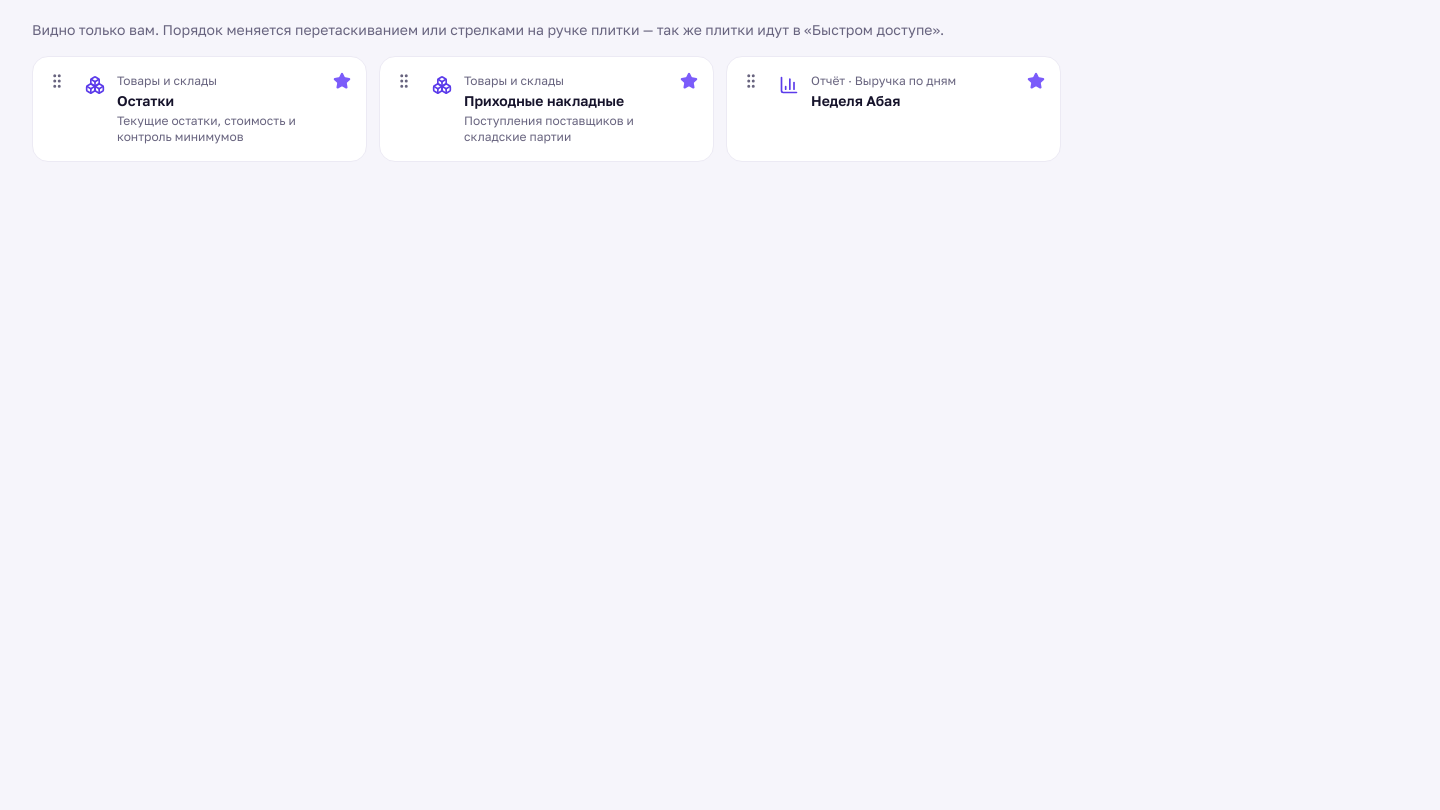
«Избранное» screen › unpins a tile
What coordinates should you click on to do the following:
click the button named "Убрать «Неделя Абая» из избранного"
I would click on:
 (1036, 81)
Its box is x1=1018 y1=63 x2=1054 y2=99.
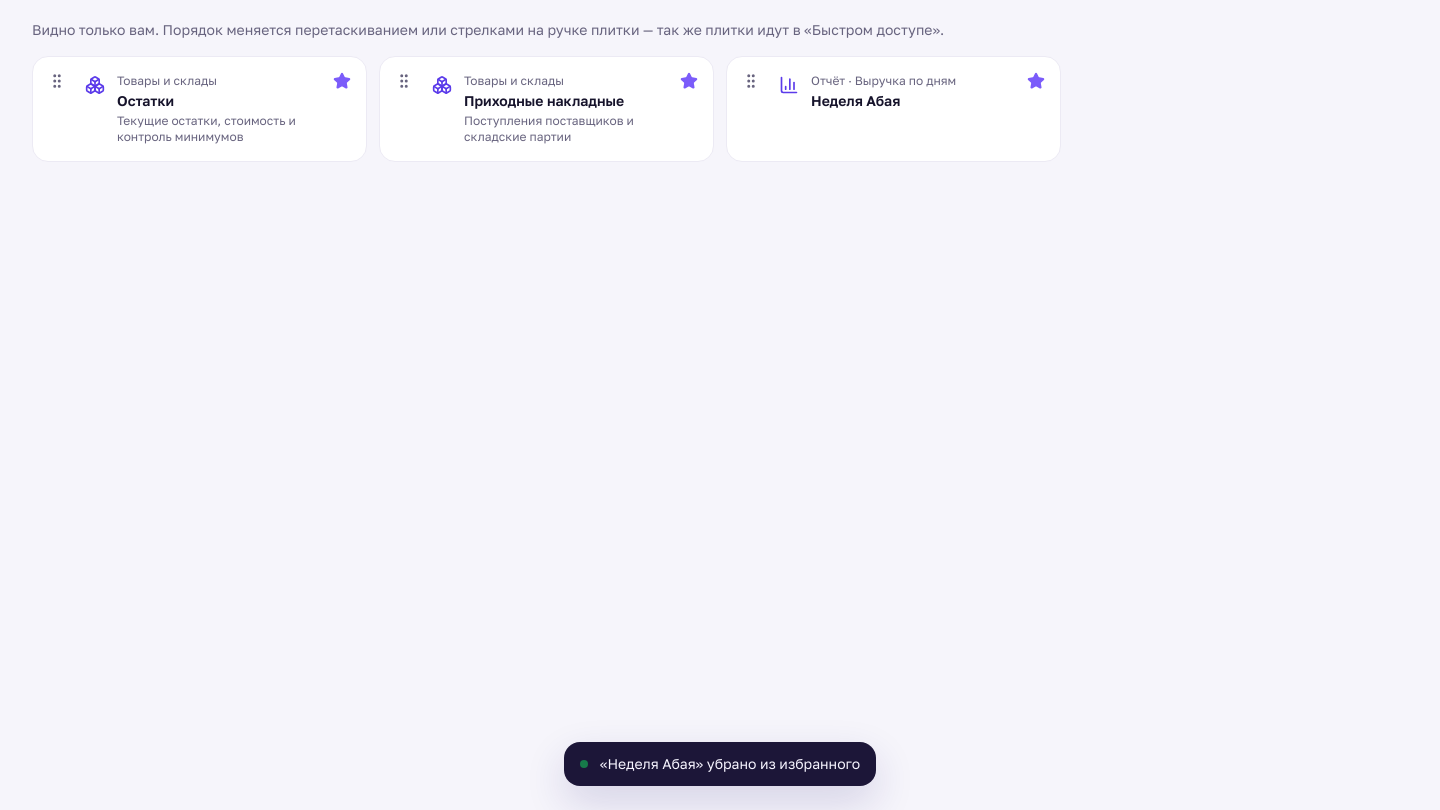
Now the text "«Неделя Абая» убрано из избранного" is shown, box x1=564 y1=742 x2=876 y2=786
